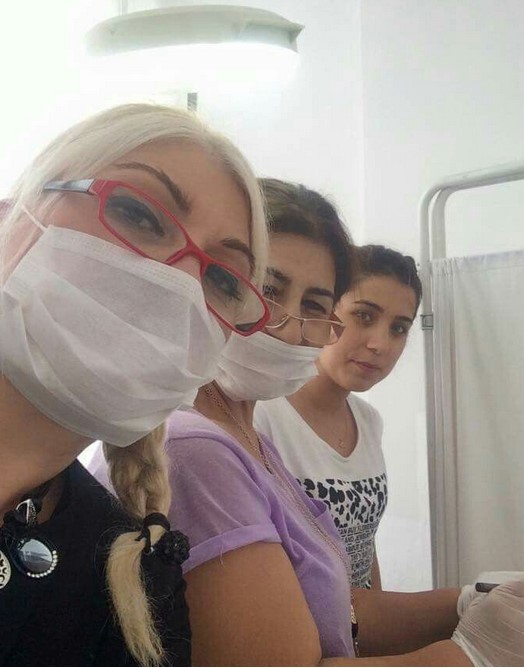face_no_mask: (319, 242, 420, 395)
face_with_mask: (3, 103, 267, 446), (205, 184, 347, 400)
